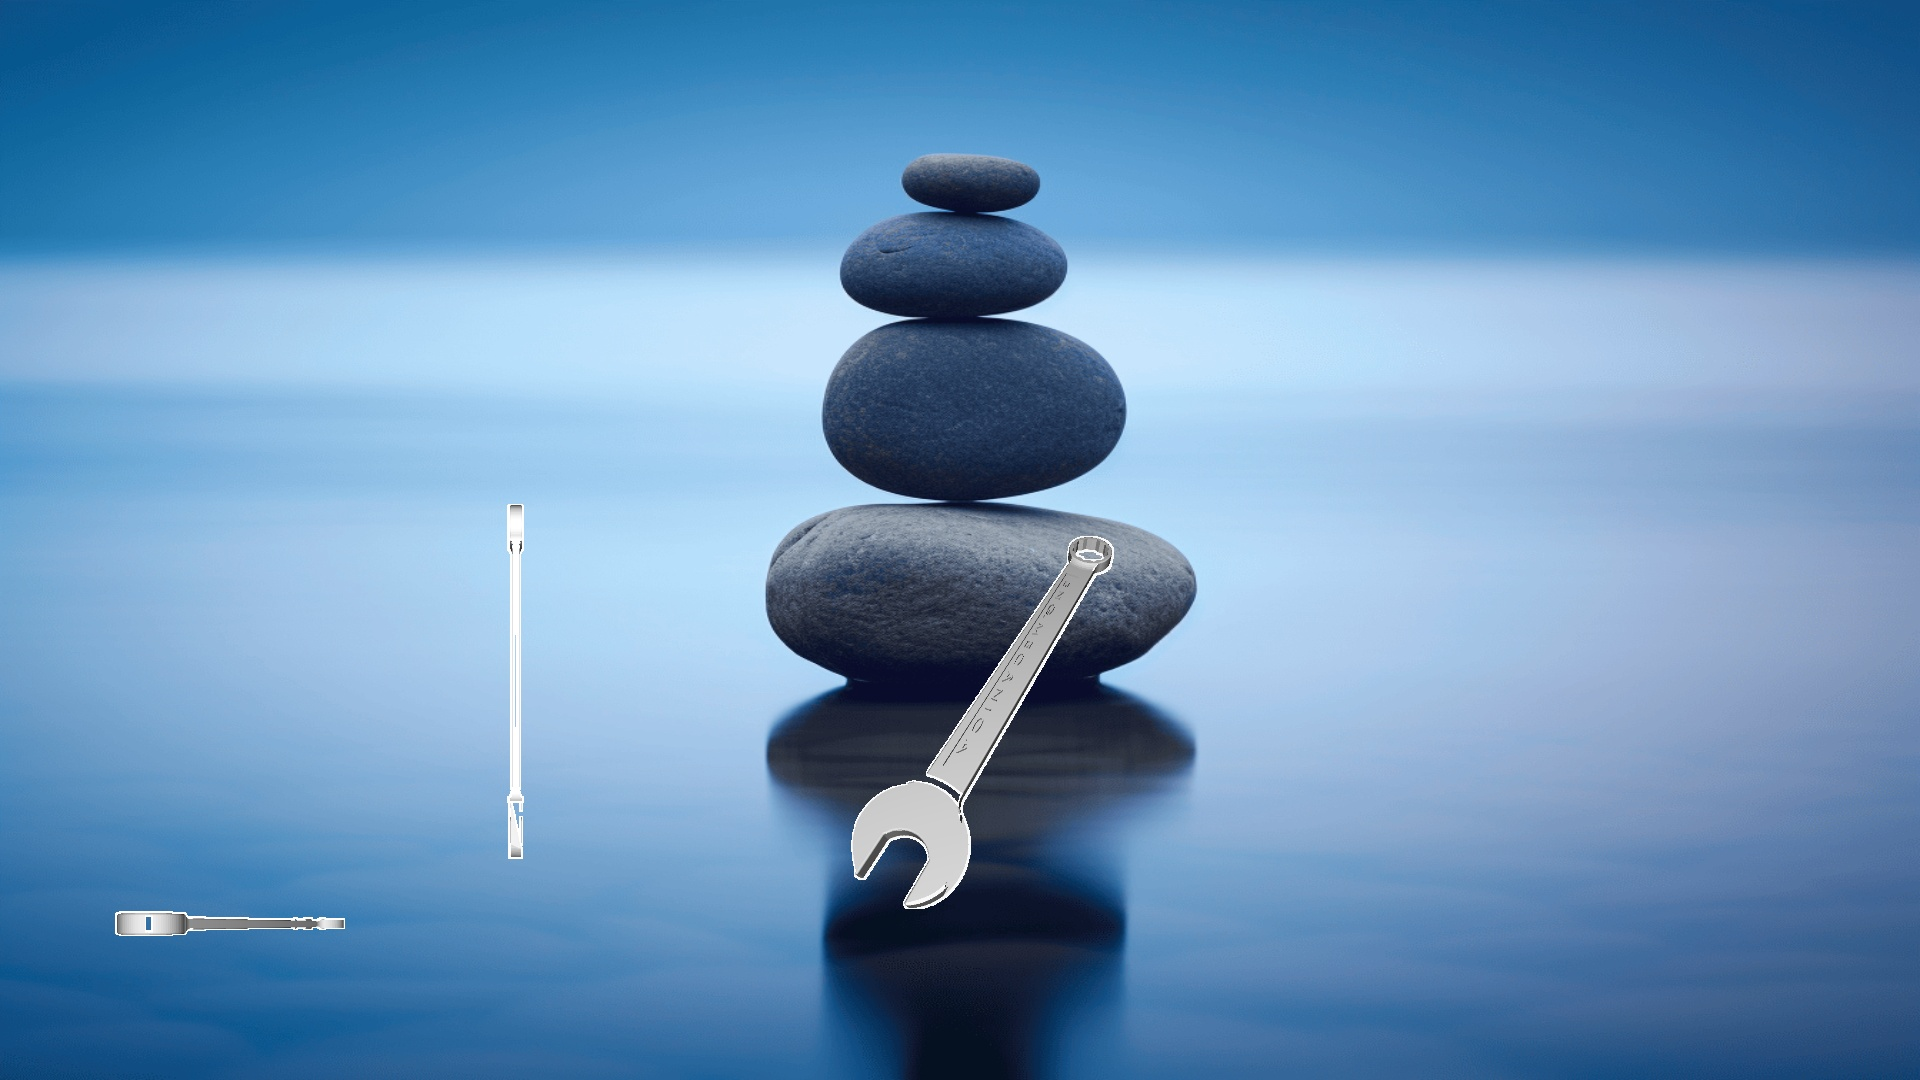Mixed Key: (851, 535, 1113, 909), (506, 504, 524, 858), (115, 911, 344, 935)
